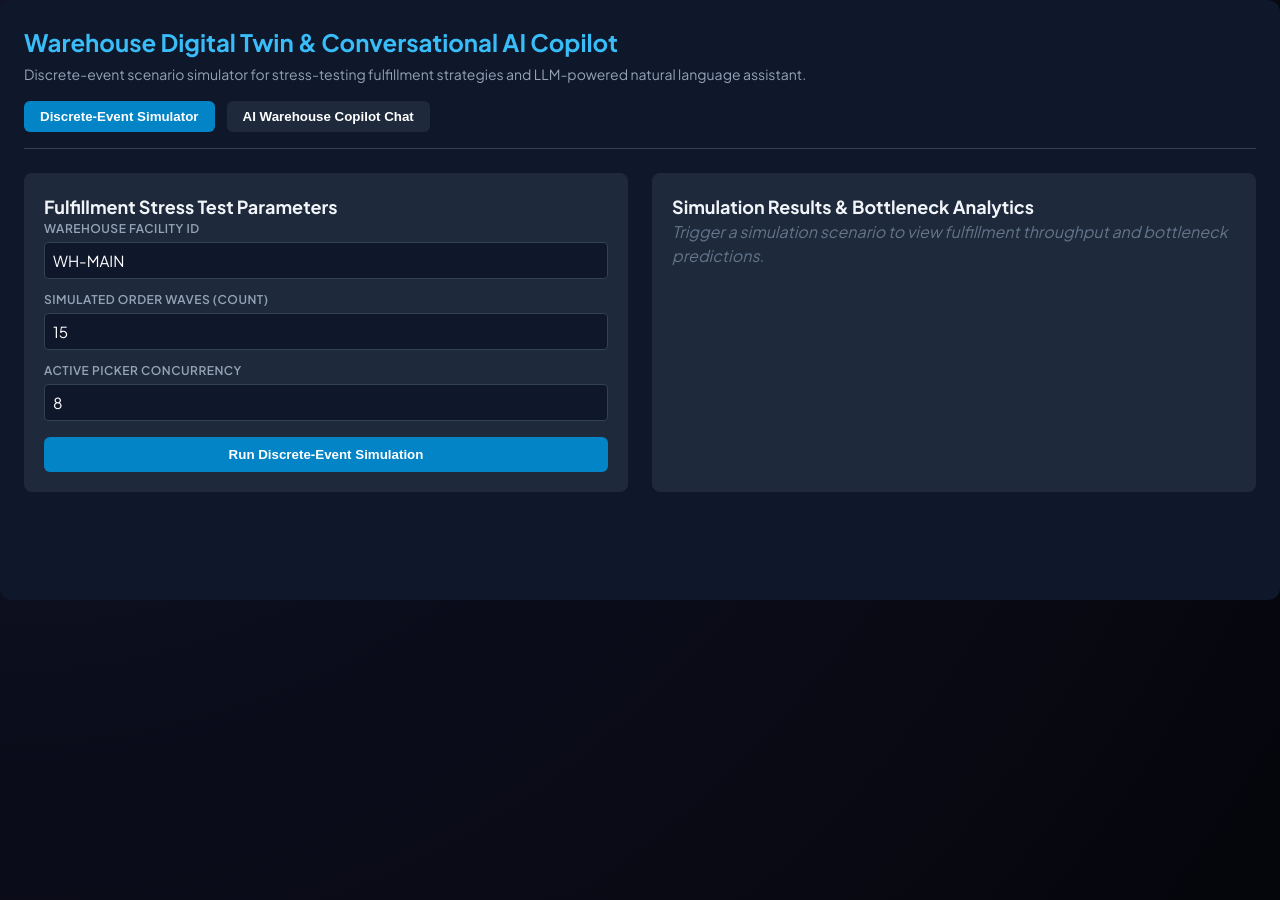
Test: DigitalTwinCopilotPanel › runs discrete-event simulation via api prop
Click the button "Run Discrete-Event Simulation": (326, 454) [44,437,608,472]
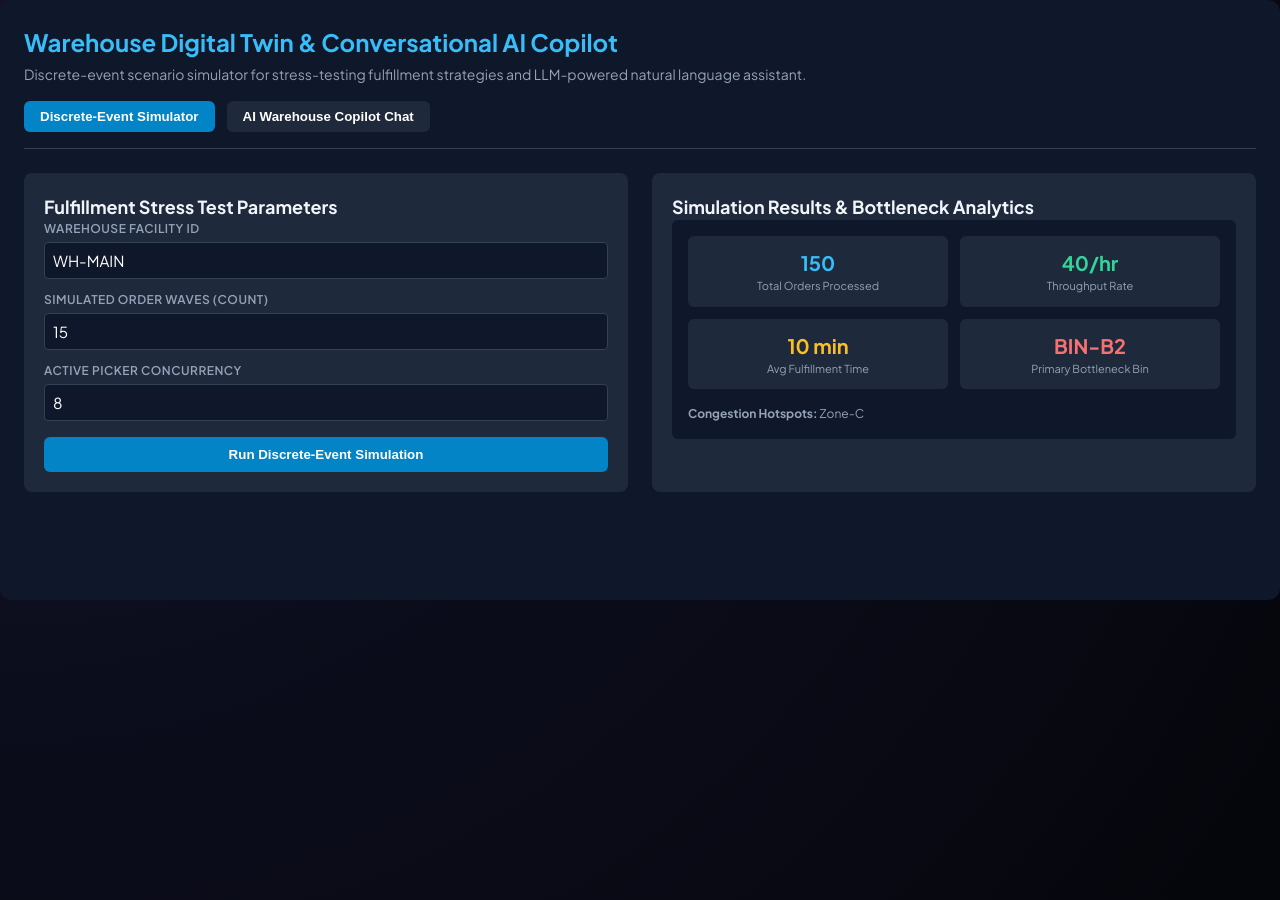
Expected: the text "150" is shown, [801,250,835,275]
Expected: the text "BIN-B2" is shown, [1054,332,1126,358]
